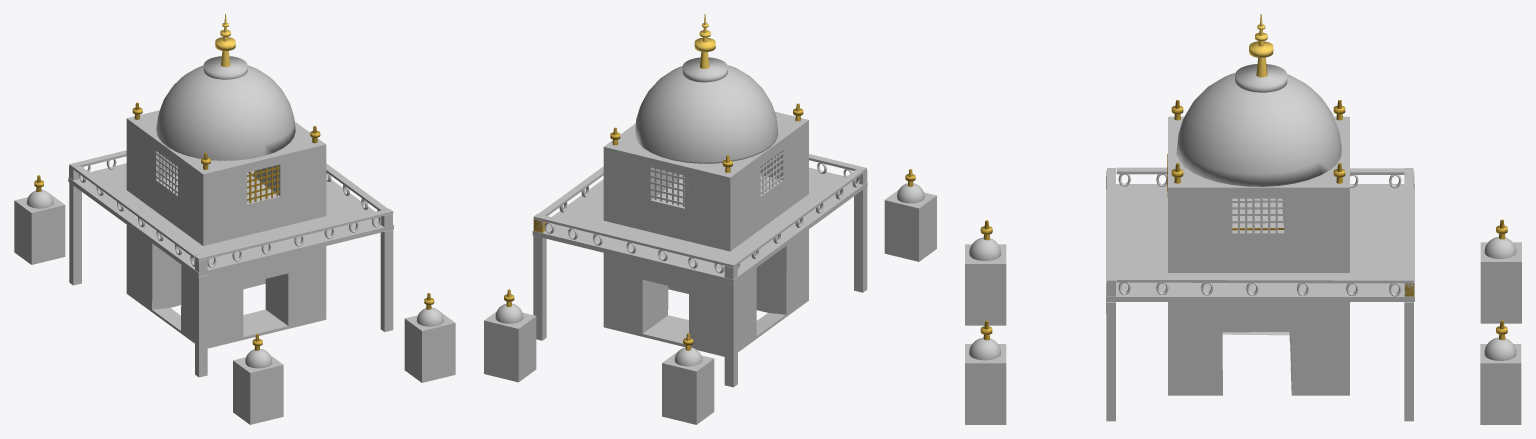
The model's file is main_temple.obj.
3 renders of one model, left to right at view 1: azimuth 30°, elevation 25°; view 2: azimuth 150°, elevation 25°; view 3: azimuth 270°, elevation 25°, orthographic. The views are drawn at different scales.
Parts seen in each view (by area): view 1: Cube_Cube.005, Sphere, Cube.006_Cube.011, Cube.003_Cube.007, Cube.004_Cube.009, Cube.005_Cube.010, Cube.010_Cube.015, Cube.017_Cube.022, Cube.007_Cube.012, Cube.008_Cube.013, Cube.019_Cube.024, Cylinder.006 (+4 smaller); view 2: Cube_Cube.005, Sphere, Cube.006_Cube.011, Cube.003_Cube.007, Cube.001_Cube.008, Cube.005_Cube.010, Cube.008_Cube.013, Cube.007_Cube.012, Cube.016_Cube.021, Cube.009_Cube.014, Cube.019_Cube.024, Cylinder.006 (+5 smaller); view 3: Cube_Cube.005, Cube.006_Cube.011, Sphere, Cube.003_Cube.007, Cube.005_Cube.010, Cube.004_Cube.009, Cube.001_Cube.008, Cube.018_Cube.023, Cube.009_Cube.014, Cube.010_Cube.015, Cylinder.006, Cube.016_Cube.021 (+6 smaller).
Boxes of the visible parts, bbox=[...] form: Cube_Cube.005: bbox=[126, 110, 326, 348]; Sphere: bbox=[156, 65, 295, 160]; Cube.006_Cube.011: bbox=[68, 163, 393, 276]; Cube.003_Cube.007: bbox=[14, 193, 65, 264]; Cube.004_Cube.009: bbox=[404, 312, 455, 382]; Cube.005_Cube.010: bbox=[233, 355, 283, 424]; Cube.010_Cube.015: bbox=[380, 230, 393, 331]; Cube.017_Cube.022: bbox=[194, 208, 393, 260]; Cube.007_Cube.012: bbox=[195, 275, 207, 377]; Cube.008_Cube.013: bbox=[69, 183, 81, 285]; Cube.019_Cube.024: bbox=[73, 165, 200, 257]; Cylinder.006: bbox=[203, 56, 247, 79]; Cube_Cube.005: bbox=[603, 111, 808, 356]; Sphere: bbox=[635, 65, 778, 163]; Cube.006_Cube.011: bbox=[532, 167, 867, 284]; Cube.003_Cube.007: bbox=[662, 351, 714, 424]; Cube.001_Cube.008: bbox=[484, 311, 536, 382]; Cube.005_Cube.010: bbox=[884, 190, 936, 261]; Cube.008_Cube.013: bbox=[724, 281, 737, 387]; Cube.007_Cube.012: bbox=[854, 187, 867, 292]; Cube.016_Cube.021: bbox=[533, 213, 737, 267]; Cube.009_Cube.014: bbox=[533, 235, 546, 340]; Cube.019_Cube.024: bbox=[731, 169, 863, 264]; Cylinder.006: bbox=[682, 57, 727, 82]; Cube_Cube.005: bbox=[1168, 116, 1349, 395]; Cube.006_Cube.011: bbox=[1106, 184, 1414, 301]; Sphere: bbox=[1176, 73, 1341, 186]; Cube.003_Cube.007: bbox=[1480, 242, 1521, 323]; Cube.005_Cube.010: bbox=[965, 244, 1006, 325]; Cube.004_Cube.009: bbox=[965, 344, 1006, 424]; Cube.001_Cube.008: bbox=[1480, 344, 1521, 424]; Cube.018_Cube.023: bbox=[1116, 276, 1404, 283]; Cube.009_Cube.014: bbox=[1404, 302, 1413, 421]; Cube.010_Cube.015: bbox=[1106, 302, 1115, 421]; Cylinder.006: bbox=[1235, 64, 1287, 92]; Cube.016_Cube.021: bbox=[1404, 168, 1413, 283].
Size of the model in its own units: 7.94 by 10.83 by 15.61.
